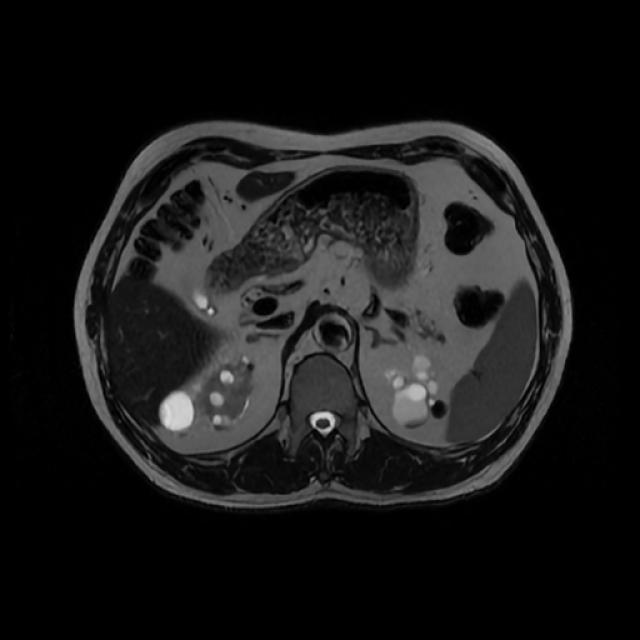sag: (161, 356, 254, 431)
sol: (384, 352, 448, 427)
